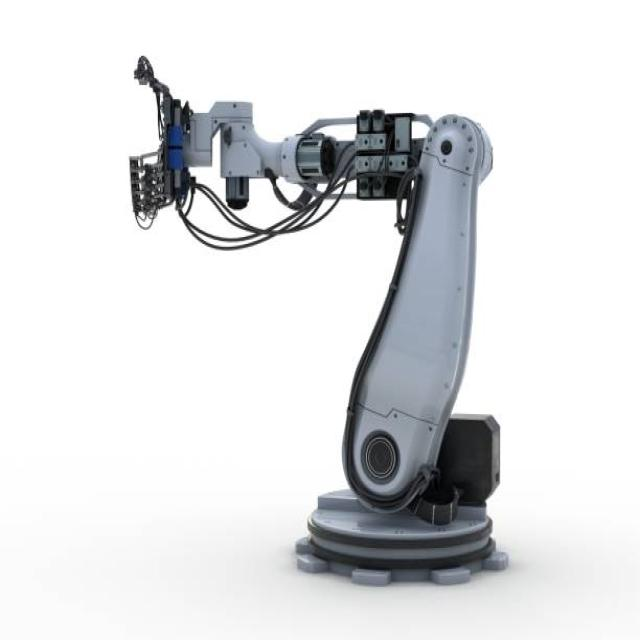Robotic-arm: (126, 45, 514, 591)
